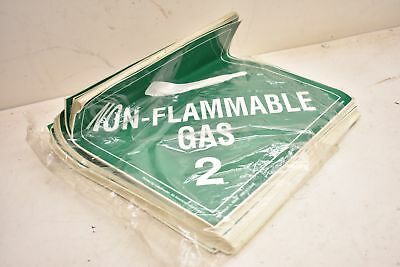NonFlammableGas: (79, 22, 352, 225)
